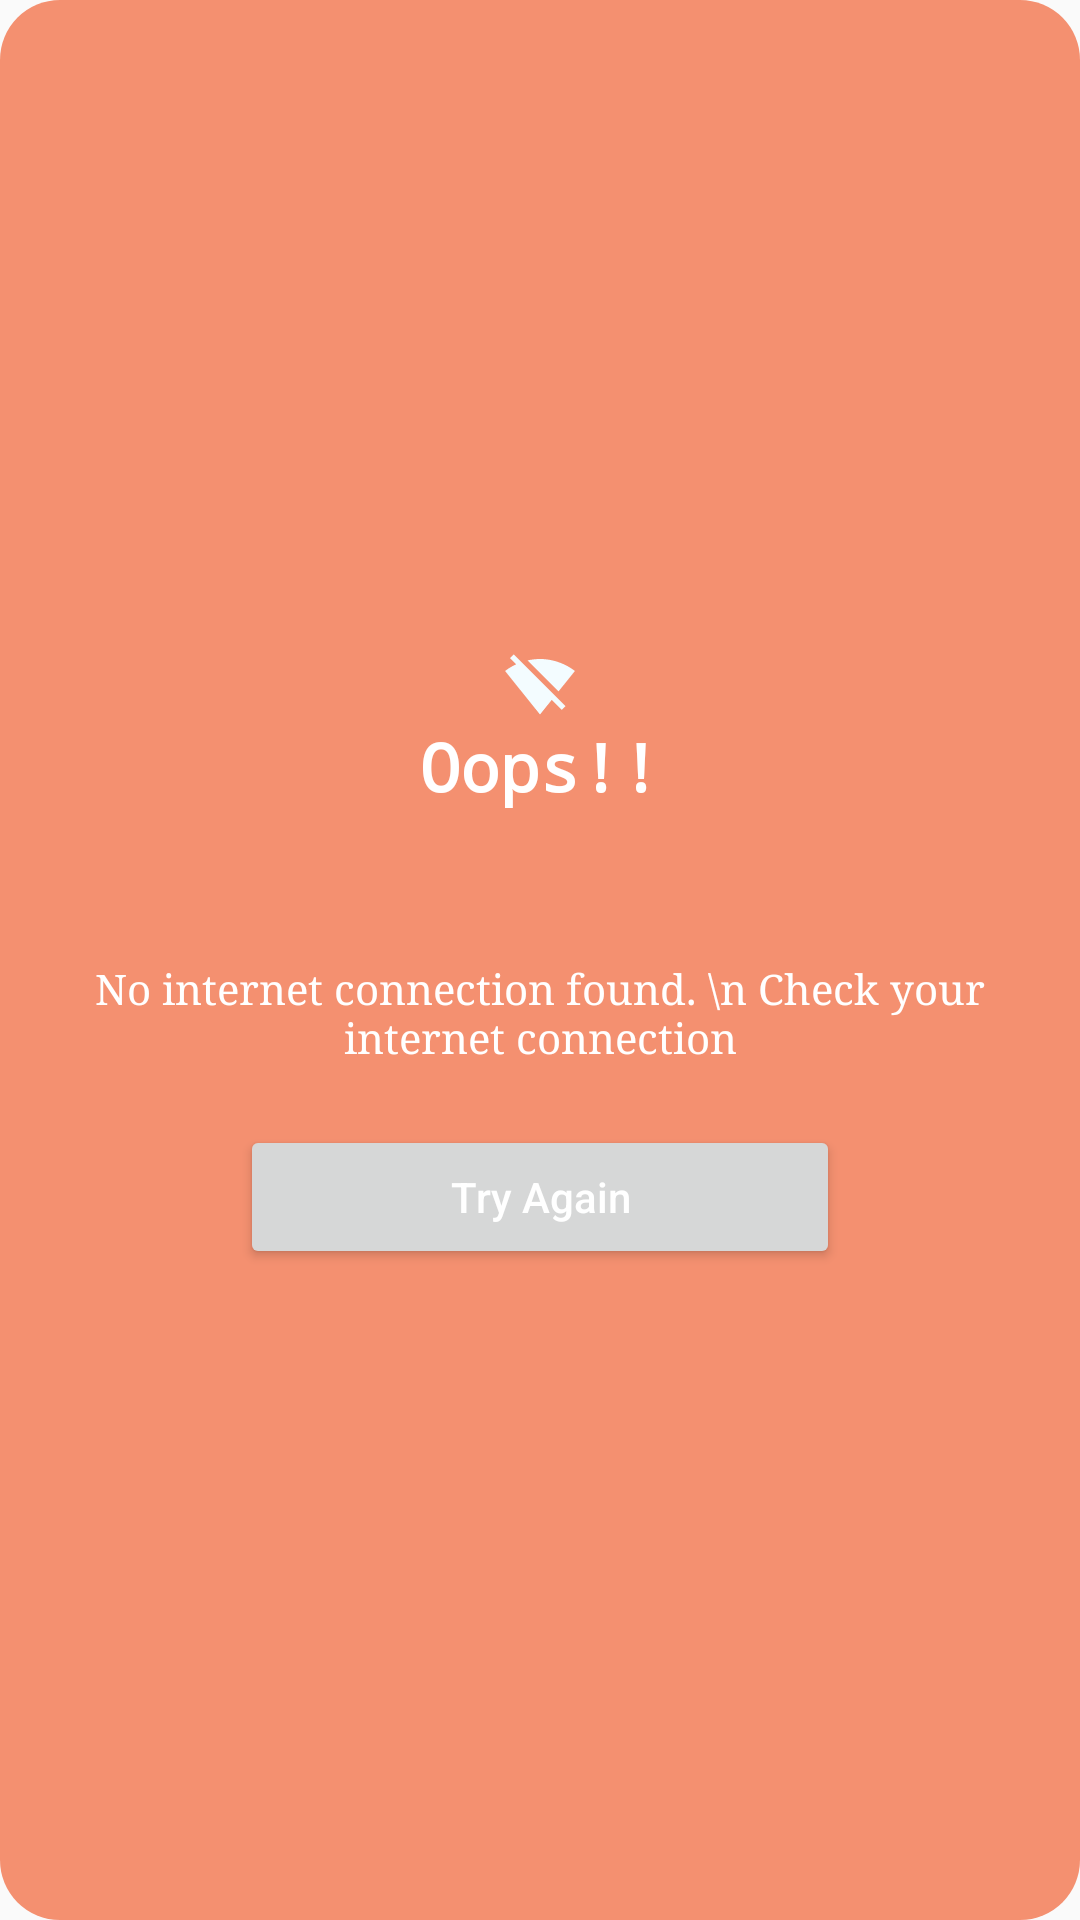

Screen size 1080px x 1920px. Icon name, then its box in pixels as (x1, y1, x2, y2):
signal wifi off: (505, 654, 575, 714)
